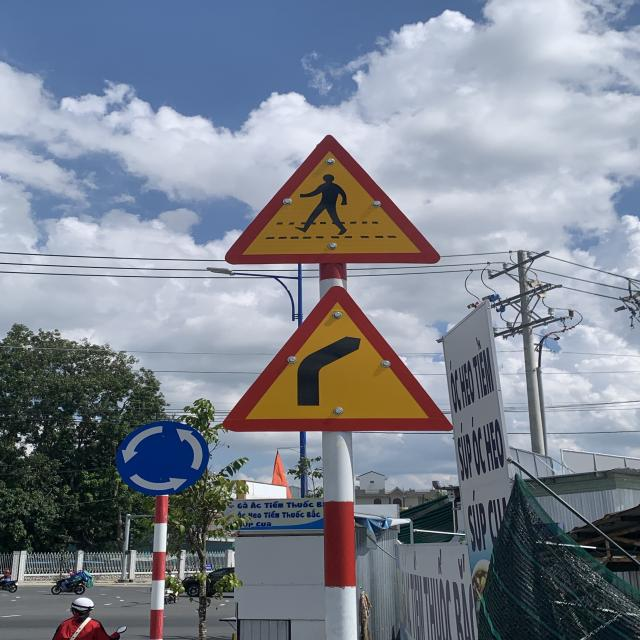Duong_Nguoi_Di_Bo_Cat_Ngang: (223, 286, 452, 433)
Duong_Nguoi_Di_Bo_Sang_Ngang: (225, 135, 440, 266)
Xe_Bus: (115, 420, 211, 497)
